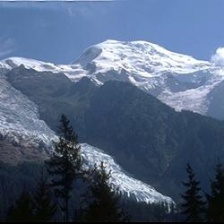neutral: (5, 5, 222, 222)
